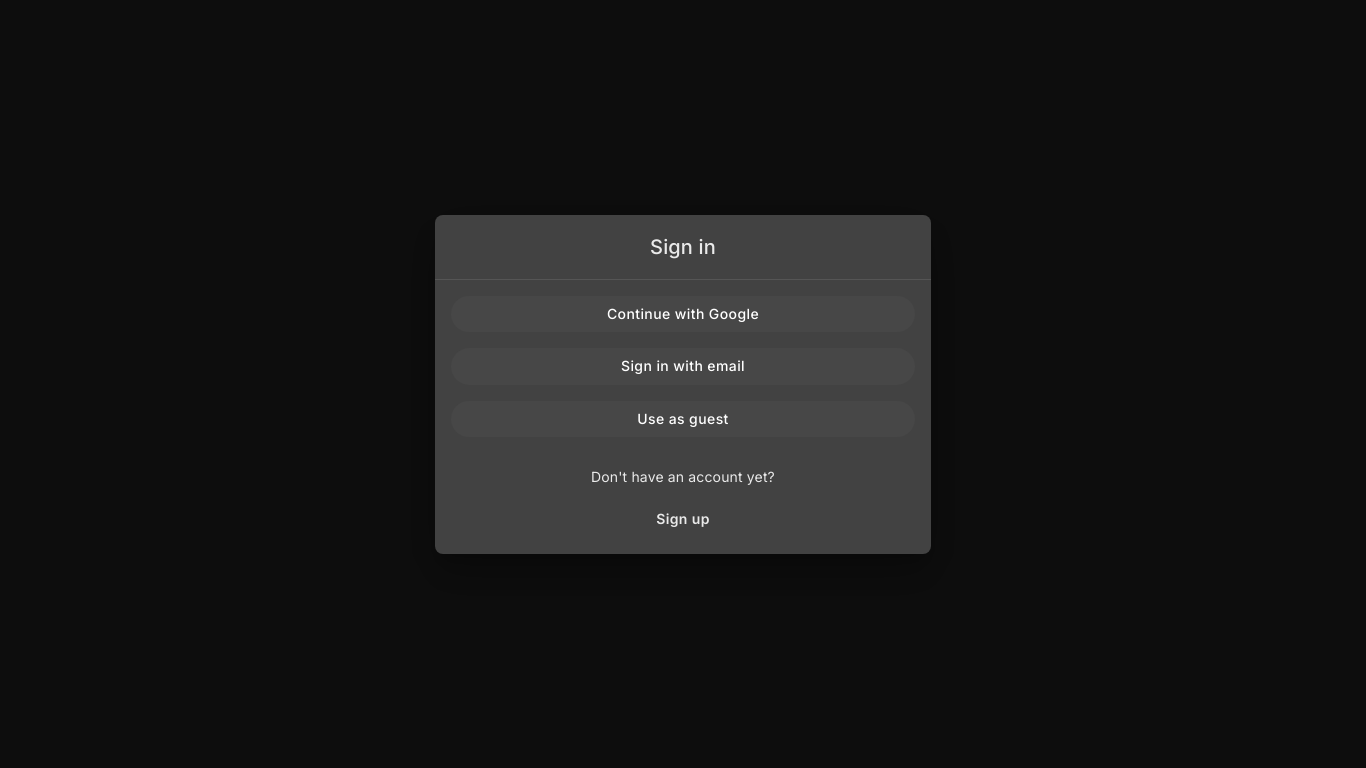
Test: SignInDialog guest flow › asks for a name instead of signing in an anonymous user without one
The image size is (1366, 768).
Click the button with test id "button-guest" at (683, 419), box [451, 400, 915, 437]
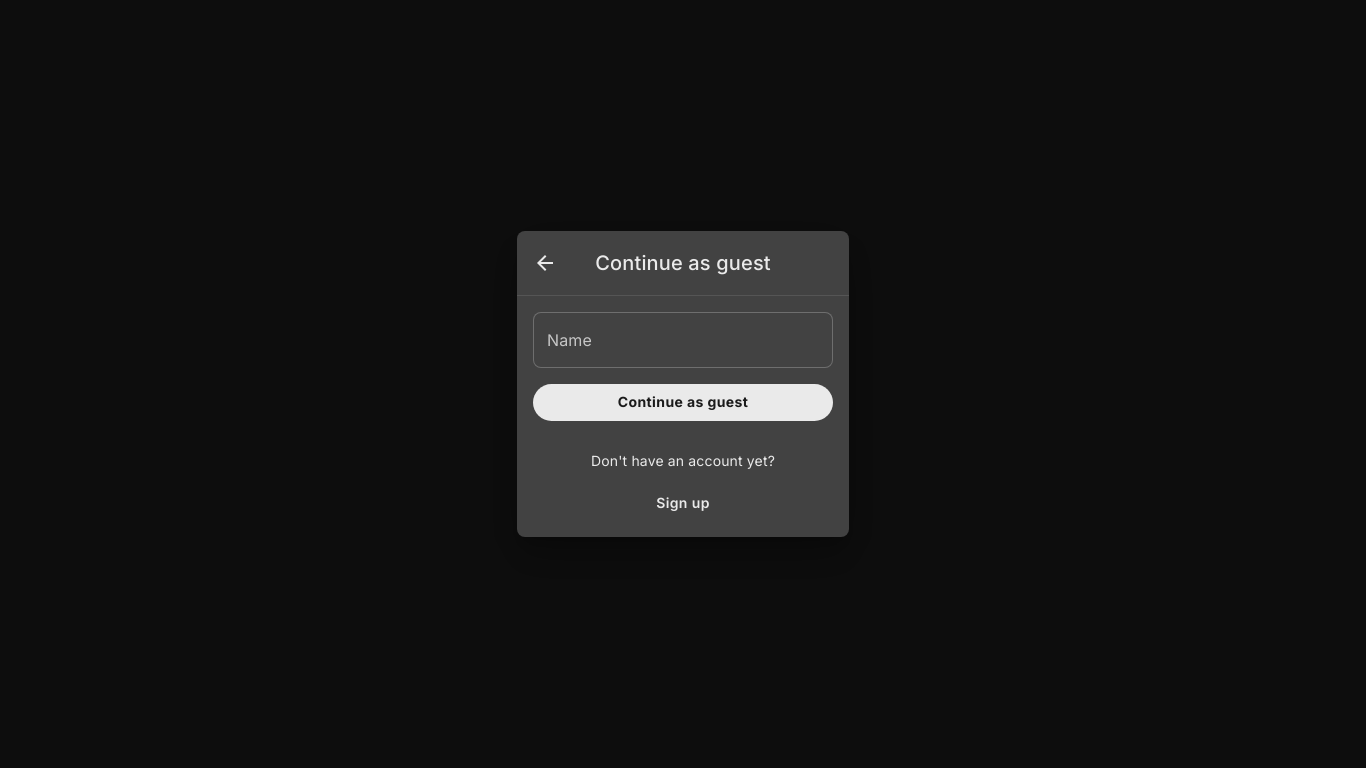
Click the button with test id "button-name" at (683, 402), box [533, 384, 833, 420]
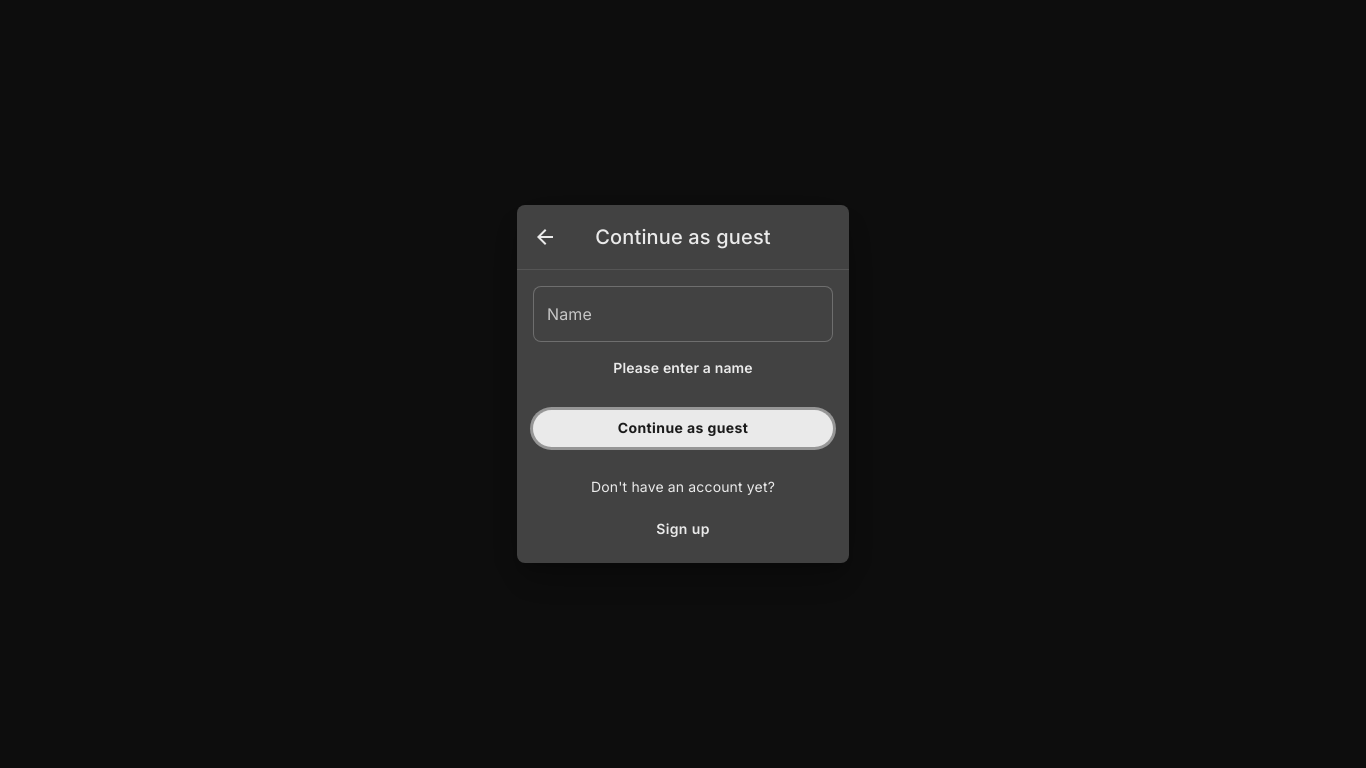
Check: the text "Please enter a name" is shown, box [613, 359, 753, 376]
